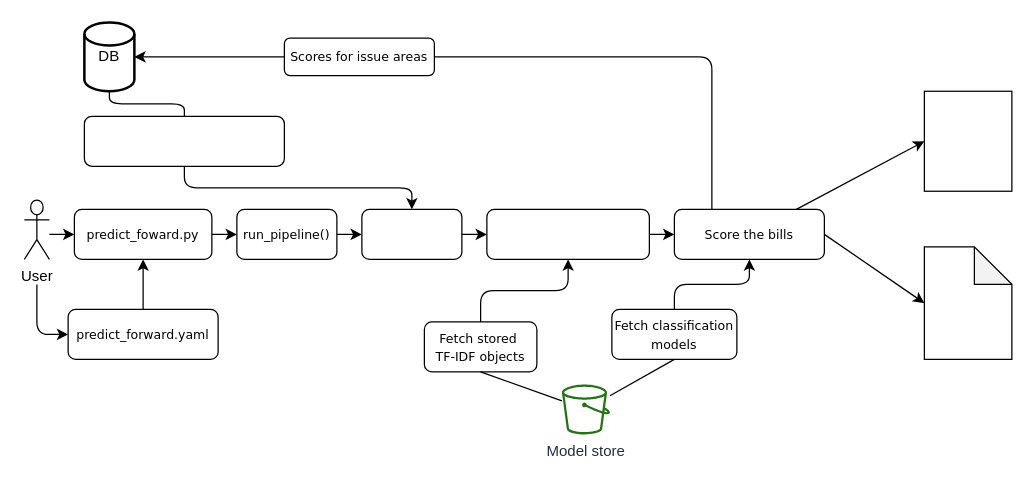
Image size: 1034x483. Some labels were removed from this diagram. Each missing label, with the centre of its shape:
clean and tokenize text: (411,233)
Fetch bills with text changes in the prior week: (183,140)
generate TF-IDF representations of bills: (567,233)
Spreadsheet: (967,302)
User Interface: (967,140)
